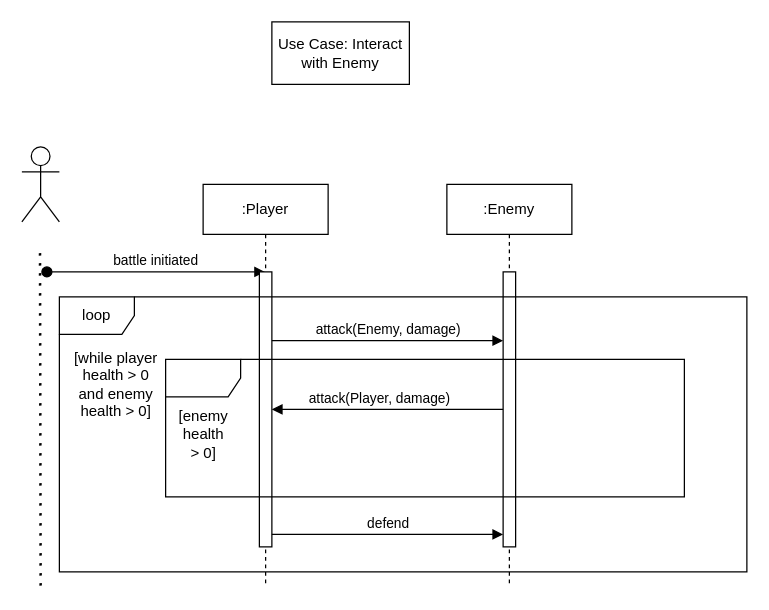
The diagram is 769 pixels wide and 610 high, and some of its shapes have lost their labels. The centre of each missing label's shape, as x and y in pixels:
"Actor" goes at pixel 40 184.
"opt" goes at pixel 424 427.
